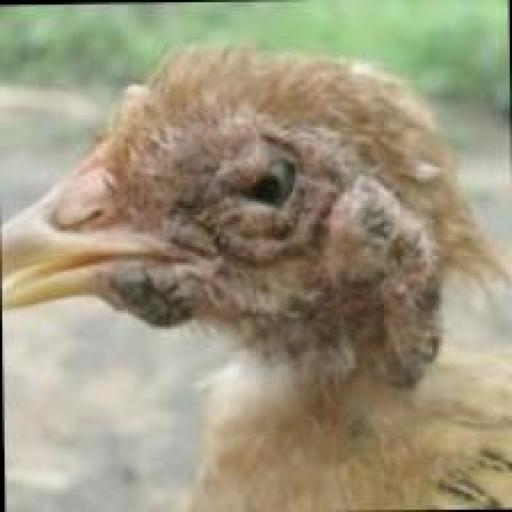disease: (49, 49, 498, 418)
